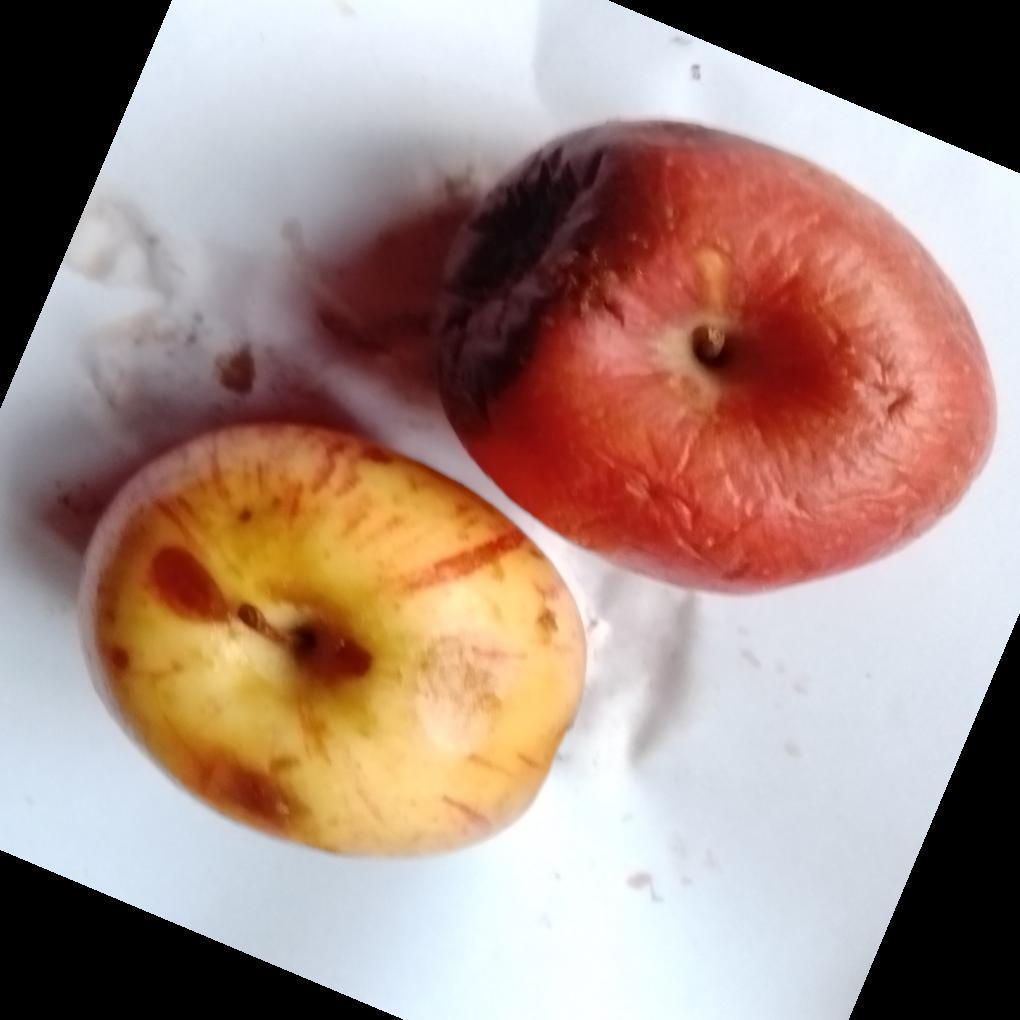FreshOrange: (427, 120, 999, 600), (73, 419, 591, 865)
